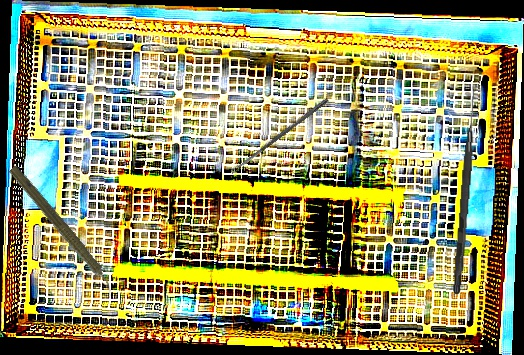Handpiece: (3, 163, 123, 300)
Hook Surgical: (452, 89, 478, 295)
Surgical Spoon: (229, 97, 330, 174)
